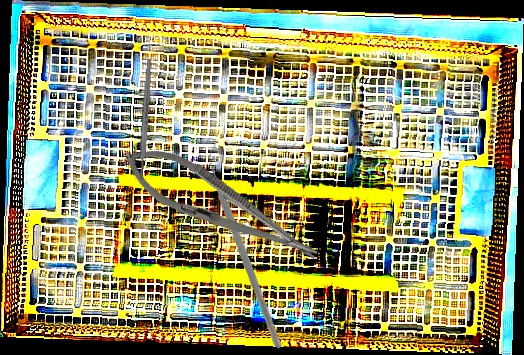Chopper: (139, 141, 356, 350)
Needle Holder: (113, 131, 329, 281)
Scalpel Handle: (137, 58, 154, 180)
